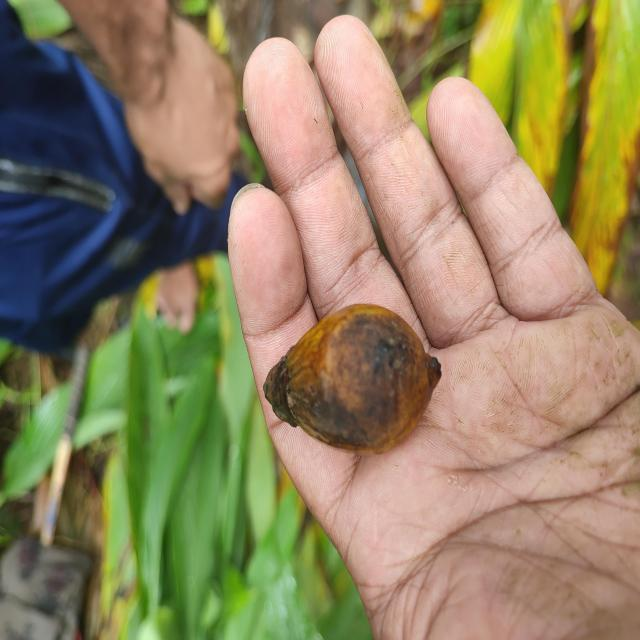damaged: (262, 304, 444, 458)
